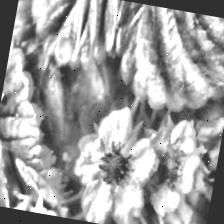Blossom Blight: (92, 135, 137, 190), (150, 144, 190, 193)
